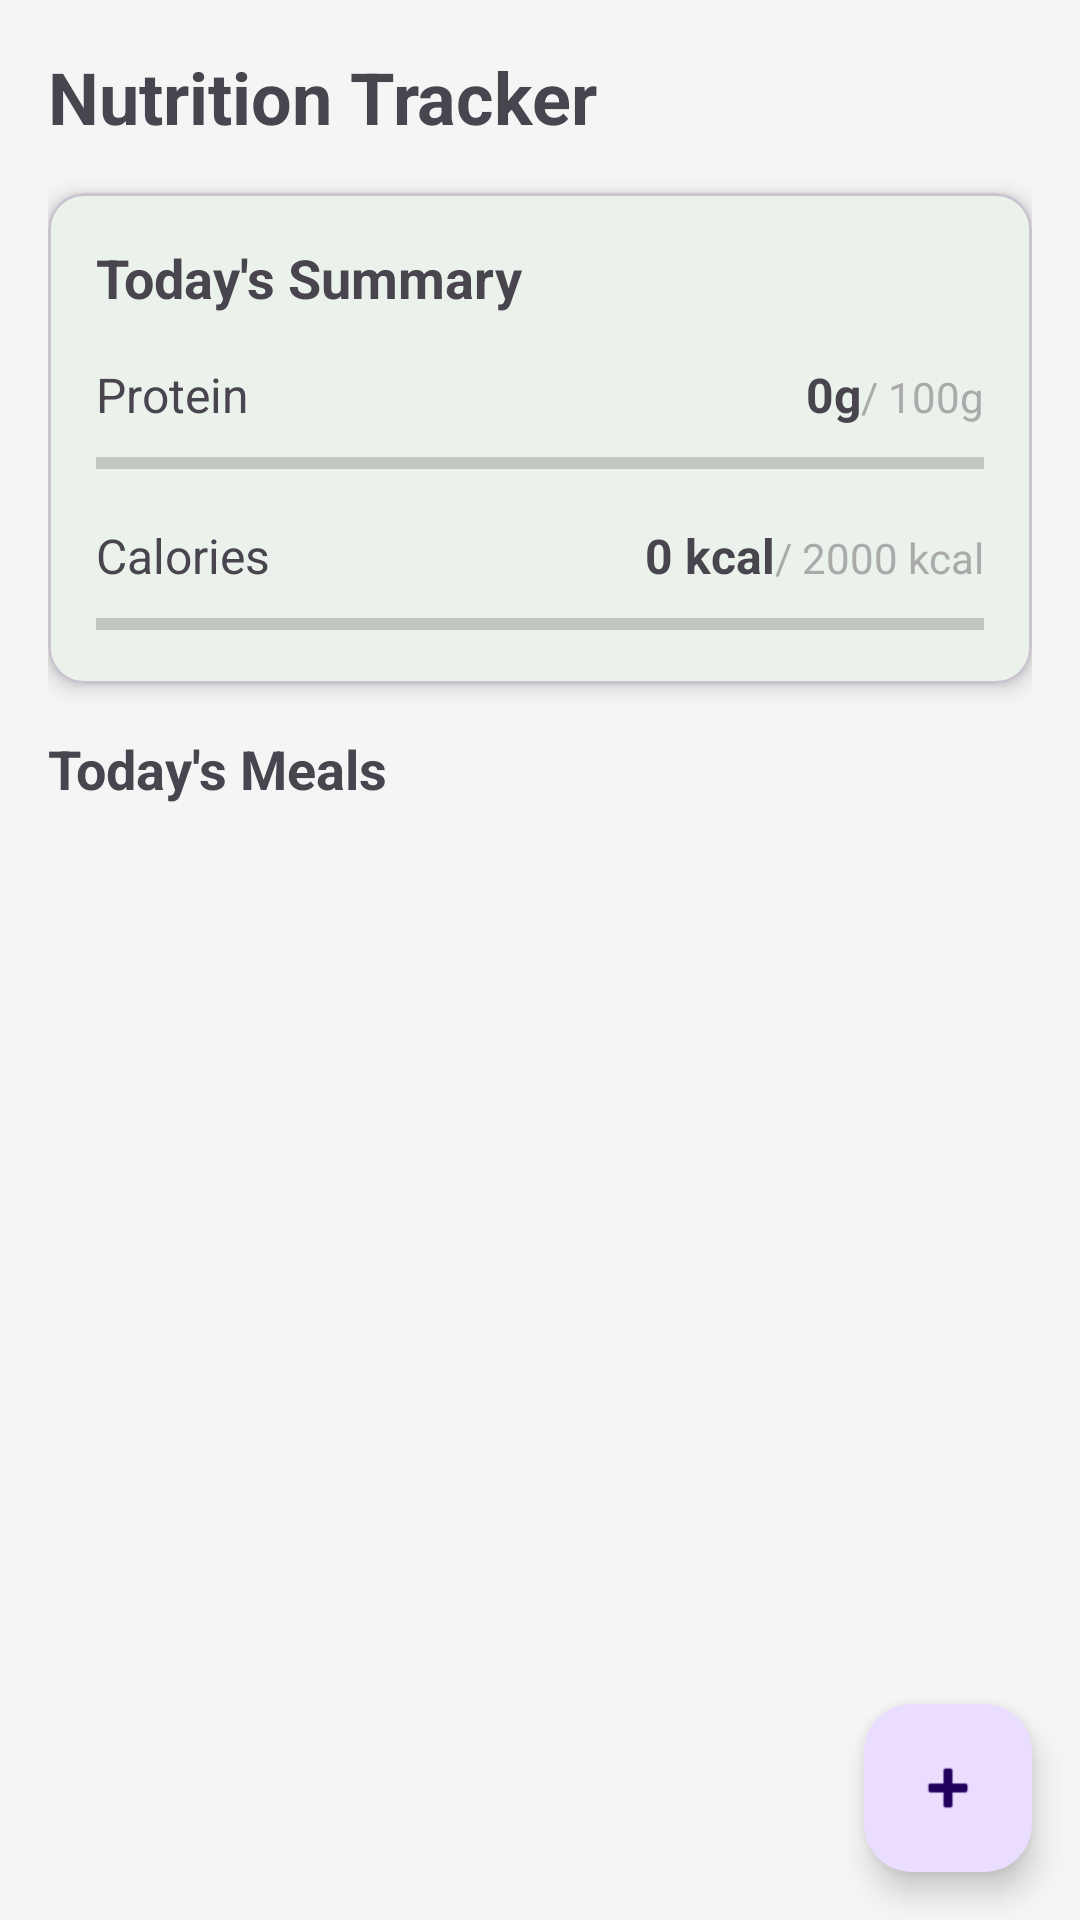

Icons on this 1080×1920 Android screen, each with its box as (x1, y1, x2, y2):
Add Food: (864, 1704, 1032, 1872)
